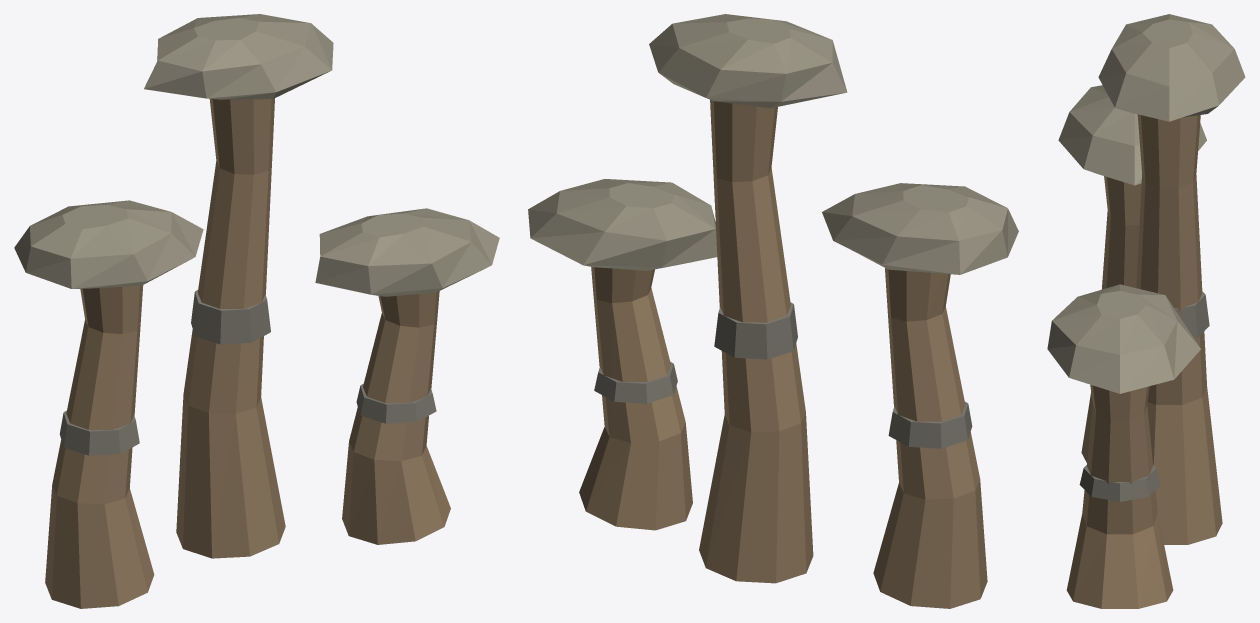
File: Environment_Feature_Hills_HoodooCluster_001.glb
3 views of the same model, side by side, from view 1: azimuth 30°, elevation 25°; view 2: azimuth 150°, elevation 25°; view 3: azimuth 270°, elevation 25° (orthographic). The views are drawn at different scales.
Parts seen in each view (by area): view 1: Environment_Feature_Hills_HoodooCluster_001; view 2: Environment_Feature_Hills_HoodooCluster_001; view 3: Environment_Feature_Hills_HoodooCluster_001.
Boxes of the visible parts, x1,y1,x2,y2 form: Environment_Feature_Hills_HoodooCluster_001: [14, 14, 499, 608]; Environment_Feature_Hills_HoodooCluster_001: [528, 14, 1018, 608]; Environment_Feature_Hills_HoodooCluster_001: [1047, 14, 1245, 608].
Size of the model in its own units: 5.32 by 5.58 by 2.01.
